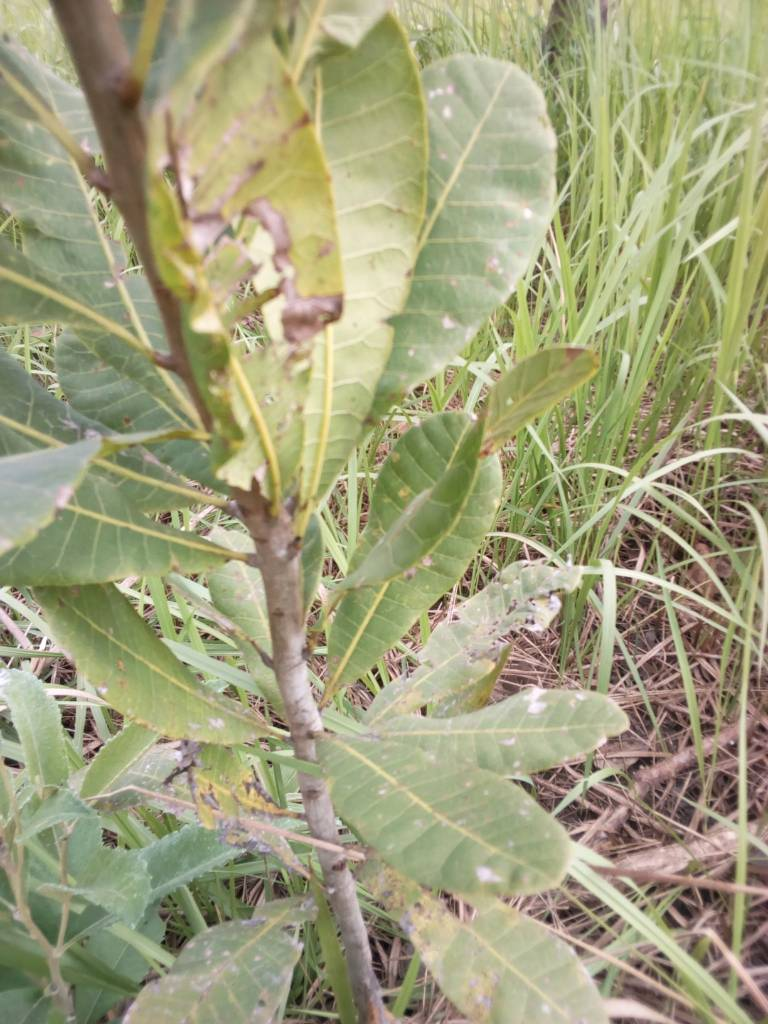Anoplonemis curvipes: (78, 1, 343, 514), (346, 550, 586, 757)
